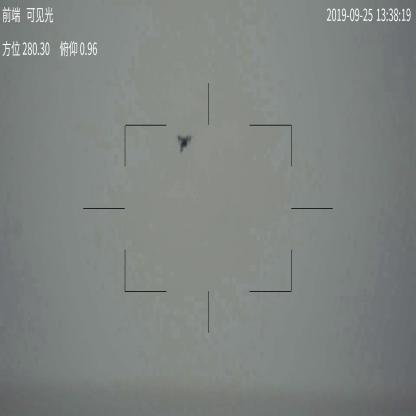uav: (176, 133, 194, 156)
